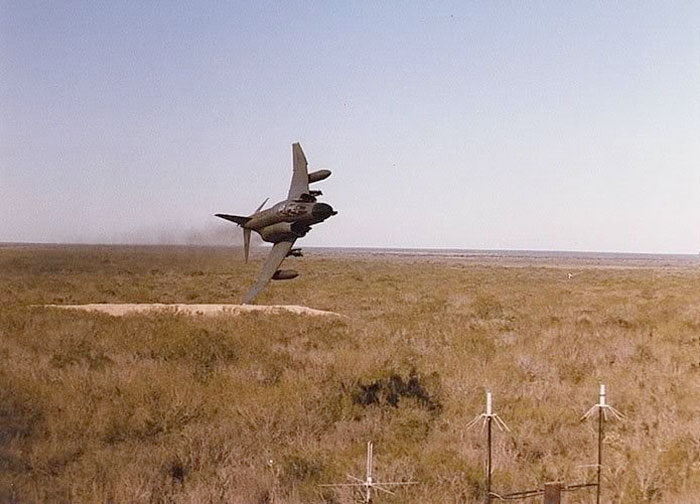F4: (213, 142, 338, 306)
